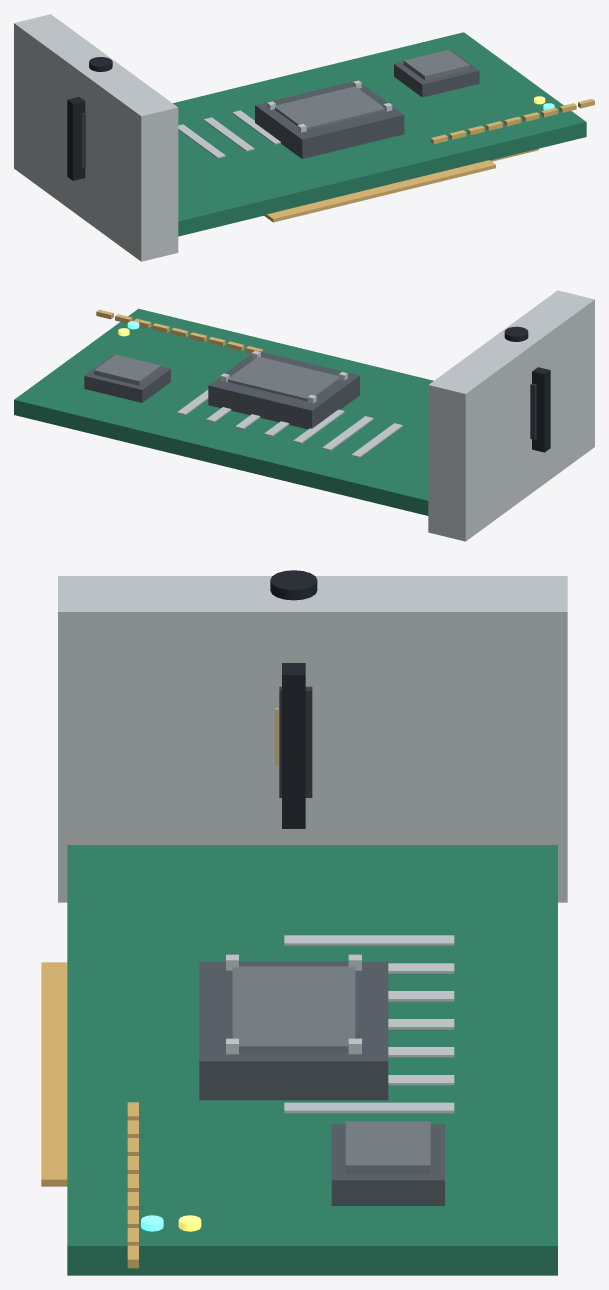
Rendered from network-card.glb.
3 views of the same model, one above another, from view 1: azimuth 30°, elevation 25°; view 2: azimuth 150°, elevation 25°; view 3: azimuth 270°, elevation 25° (orthographic). The views are drawn at different scales.
Parts seen in each view (by area): view 1: pcb, metal, case, edge, gold, port; view 2: pcb, metal, case, edge, port, gold, accent; view 3: pcb, metal, case, edge, gold, port, accent.
Part boxes in pixels (bbox=[...]): pcb: bbox=[173, 32, 586, 236]; metal: bbox=[14, 14, 392, 261]; case: bbox=[255, 50, 479, 158]; edge: bbox=[274, 49, 469, 130]; gold: bbox=[264, 99, 594, 222]; port: bbox=[67, 57, 112, 180]; pcb: bbox=[14, 308, 433, 515]; metal: bbox=[177, 290, 594, 541]; case: bbox=[84, 350, 359, 429]; edge: bbox=[94, 354, 339, 401]; port: bbox=[504, 326, 550, 452]; gold: bbox=[96, 309, 262, 353]; accent: bbox=[530, 383, 536, 439]; pcb: bbox=[67, 845, 557, 1275]; metal: bbox=[58, 576, 567, 1113]; case: bbox=[199, 961, 444, 1205]; edge: bbox=[232, 966, 430, 1174]; gold: bbox=[41, 708, 278, 1268]; port: bbox=[270, 570, 317, 828]; accent: bbox=[279, 686, 312, 797].
Bounding box in the file's own units: 1.18 × 0.356 × 0.5575.
